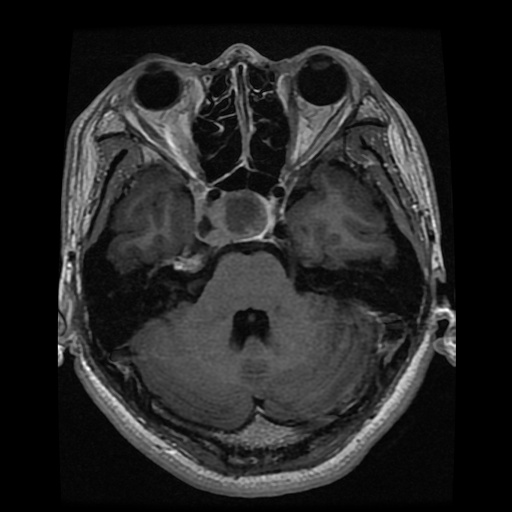pituitary: (207, 190, 274, 245)
